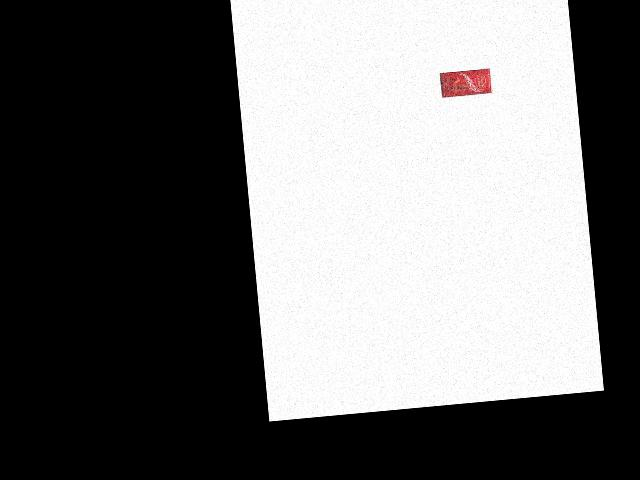chocolate: (435, 67, 493, 99)
